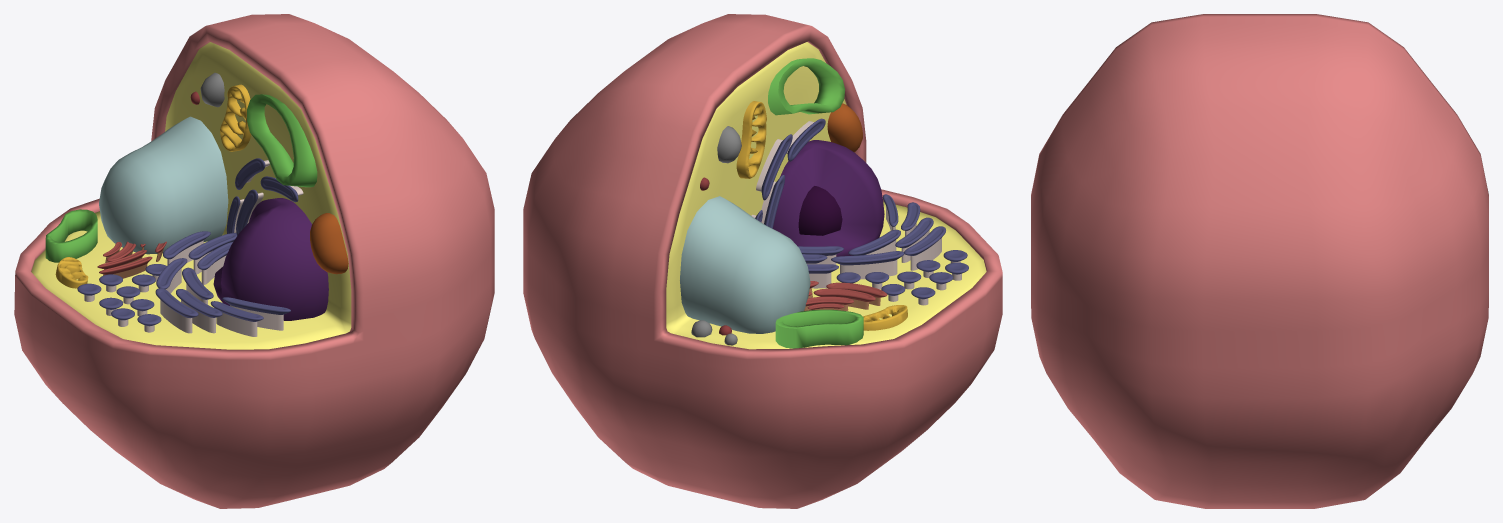
Rendered from plant_cell.glb.
3 renders of one model, left to right at view 1: azimuth 30°, elevation 25°; view 2: azimuth 150°, elevation 25°; view 3: azimuth 270°, elevation 25°, orthographic. The views are drawn at different scales.
Parts seen in each view (by area): view 1: Outside, main, Azul_Claro, Nucleo, Blue_Top, Verde_Interno, Base_Azules, Amarillo_Interno, Piedra_Naranja, Red_Top, Piedras_Grises; view 2: Outside, main, Azul_Claro, Nucleo, Blue_Top, Verde_Interno, Base_Azules, Amarillo_Interno, Centro_Nucleo, Red_Top, Piedra_Naranja, Piedras_Grises; view 3: Outside.
Part boxes in pixels (x1,y1,x2,y2): Outside: (14,14,494,508); main: (31,42,351,349); Azul_Claro: (99,116,228,254); Nucleo: (213,198,328,320); Blue_Top: (77,158,298,326); Verde_Interno: (45,94,317,262); Base_Azules: (84,160,303,336); Amarillo_Interno: (55,84,251,288); Piedra_Naranja: (310,213,348,274); Red_Top: (97,241,166,274); Piedras_Grises: (200,72,224,107); Outside: (523,14,1002,508); main: (666,42,986,349); Azul_Claro: (680,196,810,333); Nucleo: (773,140,884,256); Blue_Top: (755,118,968,299); Verde_Interno: (768,58,863,348); Base_Azules: (751,121,961,305); Amarillo_Interno: (736,101,907,330); Centro_Nucleo: (798,186,842,235); Red_Top: (805,281,887,309); Piedra_Naranja: (827,103,862,152); Piedras_Grises: (691,126,741,345); Outside: (1031,14,1488,508).
Bounding box in the file's own units: 3.18 × 3.18 × 2.89.
